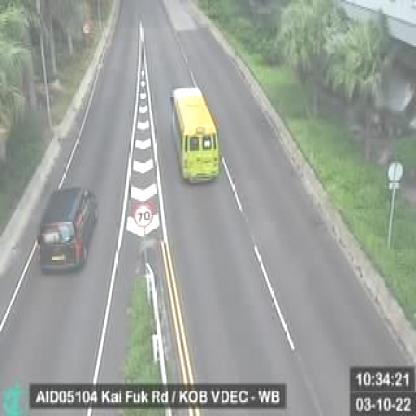Bus: (168, 87, 217, 187)
Car: (40, 184, 98, 277)
